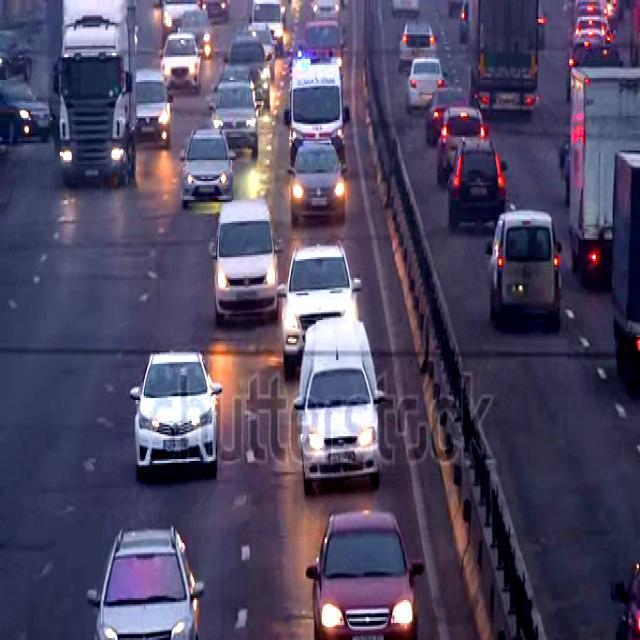ambulance: (284, 57, 351, 177)
